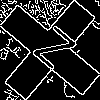Z: (25, 25, 78, 79)
